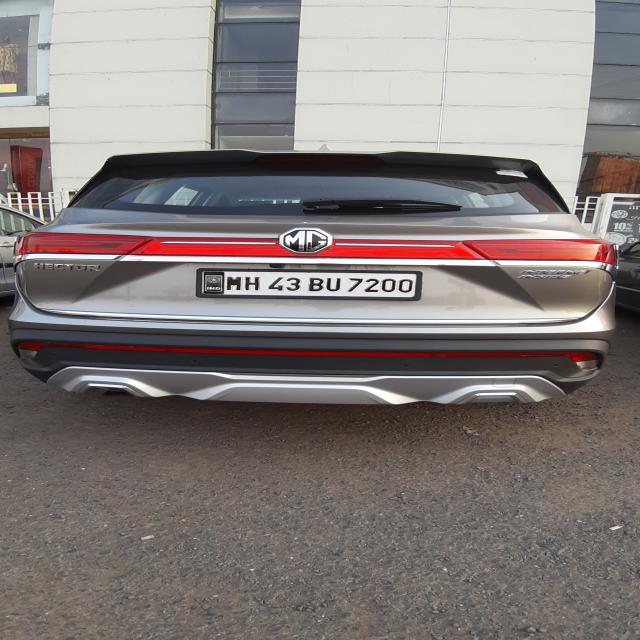Number-Plate: (199, 270, 420, 296)
